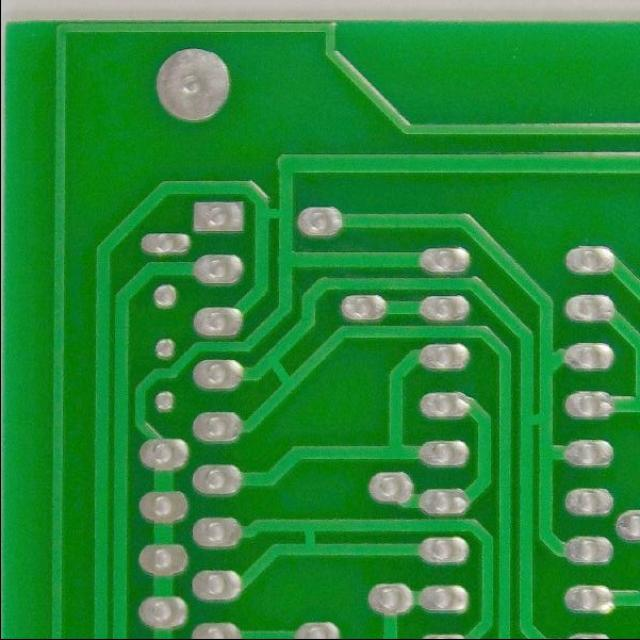short: (261, 342, 298, 401), (248, 191, 295, 233), (290, 514, 320, 559), (517, 402, 555, 433)
